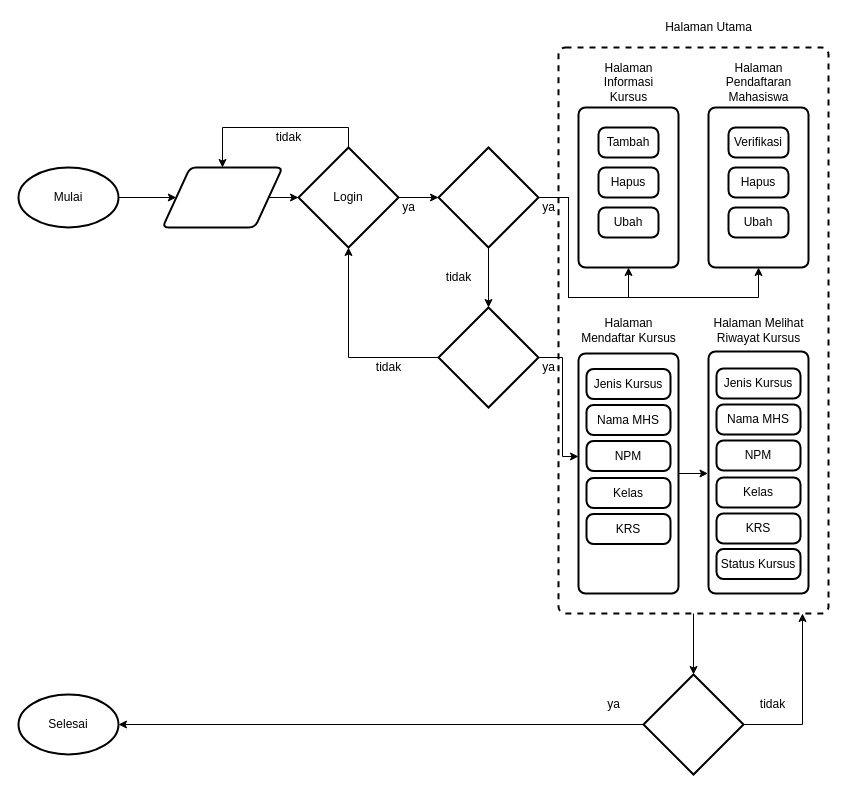
Image size: 846x792. Some labels were removed from this diagram. Here are the shapes that lost their labels. From the top down, the box of each, then its label:
(161, 166, 283, 228): Halaman Splashscreen
(437, 146, 539, 248): Admin
(437, 306, 539, 408): Mahasiswa
(642, 673, 744, 775): Logout
